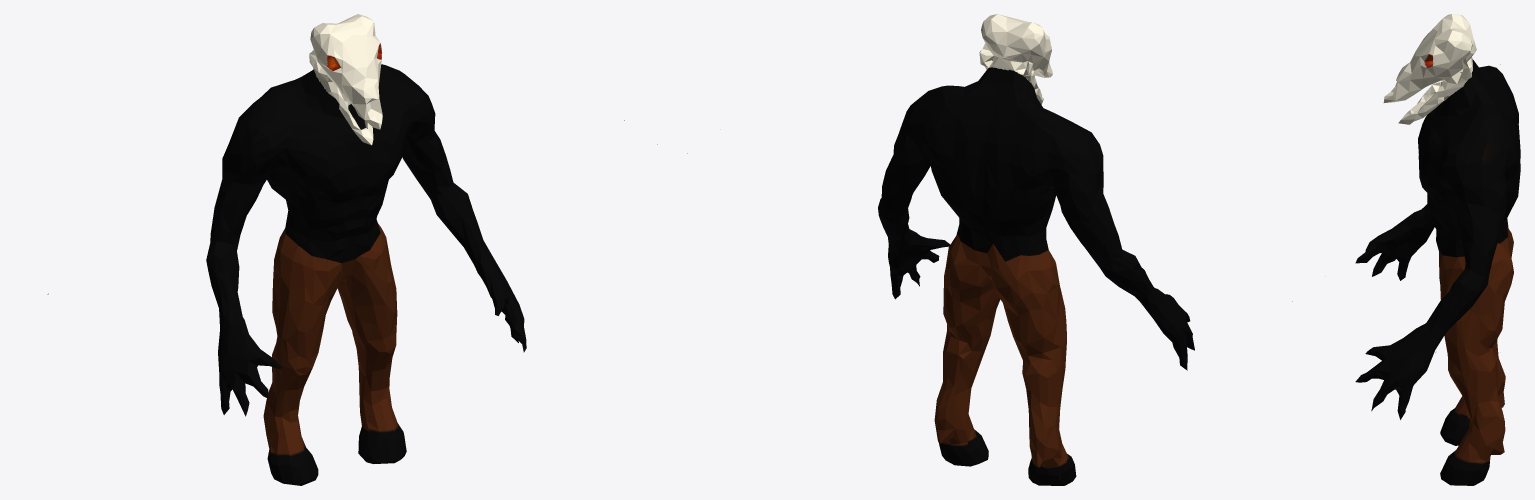
File: Boss_Placeholder.fbx
3 renders of one model, left to right at view 1: azimuth 30°, elevation 25°; view 2: azimuth 150°, elevation 25°; view 3: azimuth 270°, elevation 25°, orthographic. The views are drawn at different scales.
Parts seen in each view (by area): view 1: Cube.005; view 2: Cube.005; view 3: Cube.005.
Part boxes in pixels (<box>): Cube.005: <box>47,14,657,485</box>; Cube.005: <box>687,14,1292,485</box>; Cube.005: <box>1355,14,1520,485</box>.
Bounding box in the file's own units: 680 × 479 × 165.
